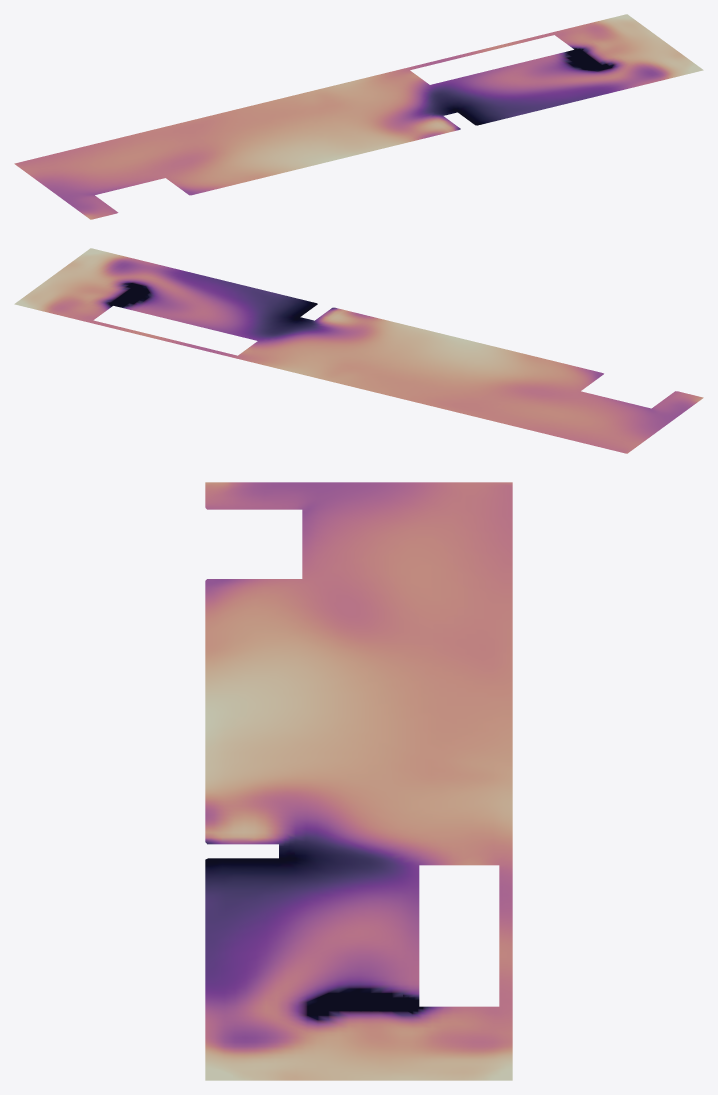
File: fpm_s5a_coarse_ke_tr_AoA_z1.10.glb
3 renders of one model, top to bottom at view 1: azimuth 30°, elevation 25°; view 2: azimuth 150°, elevation 25°; view 3: azimuth 270°, elevation 25°, orthographic. The views are drawn at different scales.
Visible parts, largest first — view 1: geometry_0; view 2: geometry_0; view 3: geometry_0.
Boxes of the visible parts, x1,y1,x2,y2 form: geometry_0: (14, 14, 703, 219); geometry_0: (14, 248, 703, 453); geometry_0: (205, 482, 512, 1080).
Bounding box in the file's own units: 10.77 × 0 × 2.34.
